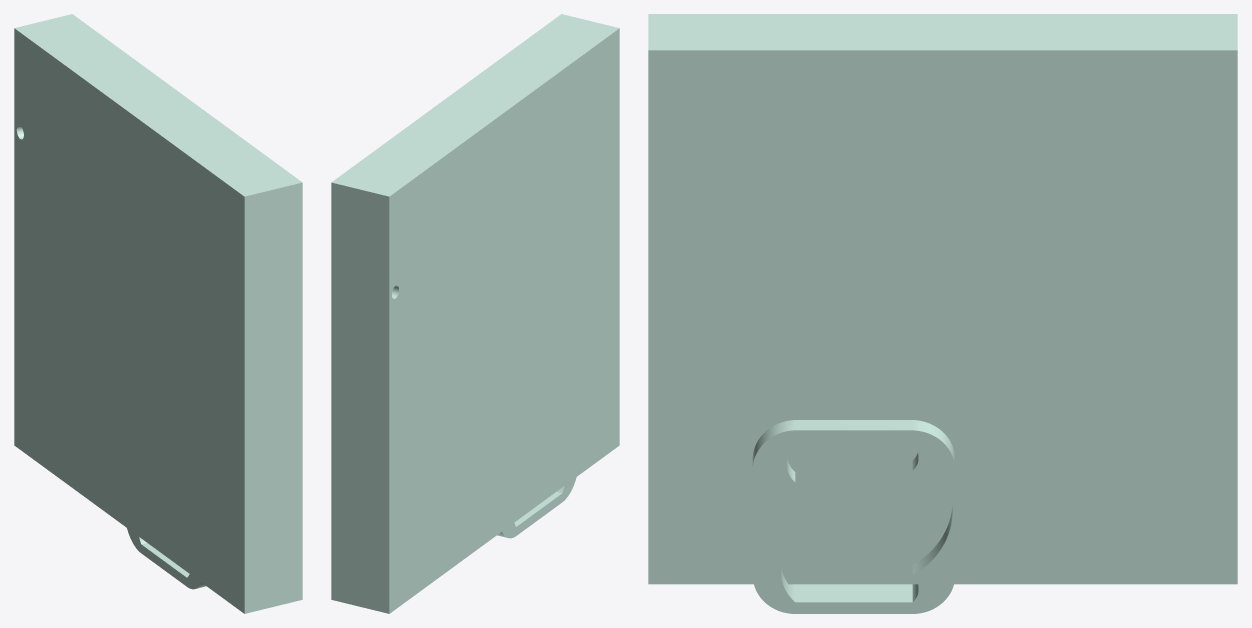
3 renders of one model, left to right at view 1: azimuth 30°, elevation 25°; view 2: azimuth 150°, elevation 25°; view 3: azimuth 270°, elevation 25°, orthographic. The views are drawn at different scales.
Visible parts, largest first — view 1: Renderer Node; view 2: Renderer Node; view 3: Renderer Node.
Boxes of the visible parts, box(x1,y1,x2,y2) form: Renderer Node: box(14, 14, 302, 613); Renderer Node: box(331, 14, 619, 613); Renderer Node: box(648, 14, 1237, 613).
Size of the model in its own units: 0.2813 by 1.55 by 1.5.
